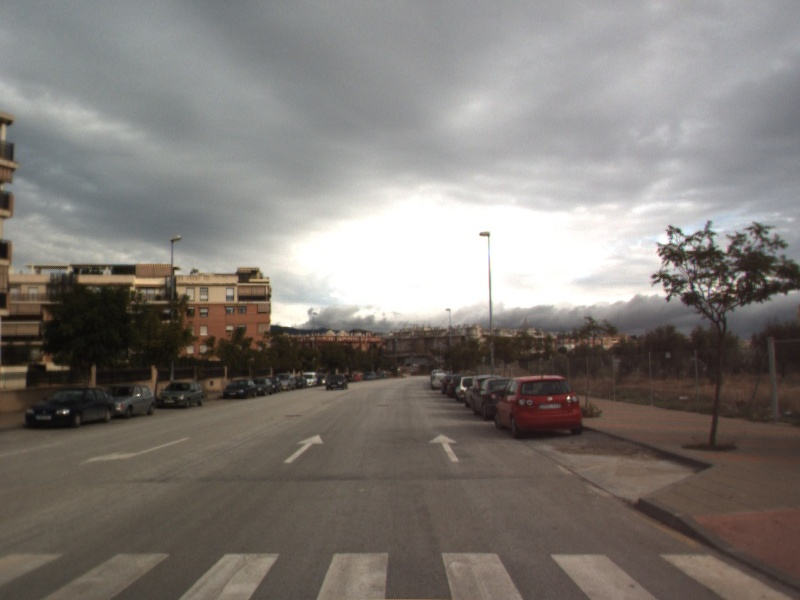STRAIGHT: (282, 432, 326, 465), (427, 432, 461, 463)
